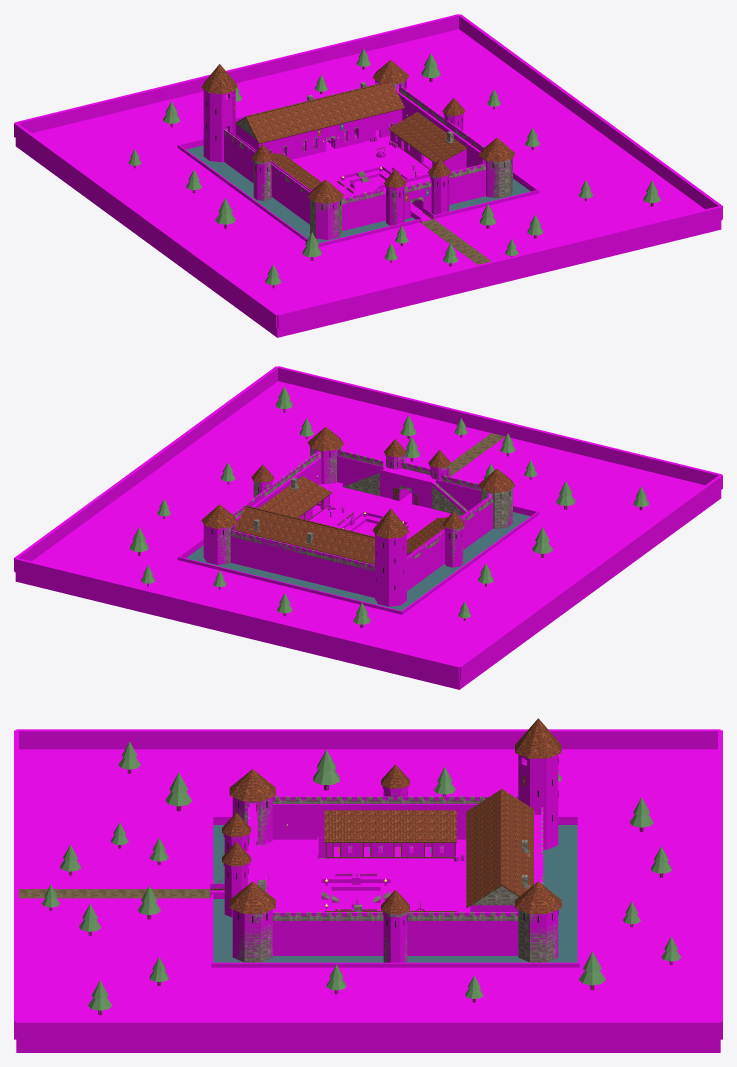
File: ClubhouseCastle.glb
3 renders of one model, top to bottom at view 1: azimuth 30°, elevation 25°; view 2: azimuth 150°, elevation 25°; view 3: azimuth 270°, elevation 25°, orthographic. The views are drawn at different scales.
Visible parts, largest first — view 1: COL_Terrain, COL_Curtain, NorthRange, COL_Courtyard, Terrain, COL_NorthRange, COL_Gatehouse, EastRange, COL_TallTower, CornerTower.001, CornerTower, COL_EastRange (+4 smaller); view 2: COL_Terrain, COL_Curtain, NorthRange, Terrain, COL_Courtyard, COL_TallTower, COL_Gatehouse, EastRange, CornerTower, Curtain, CornerTower.001, CornerTower.002 (+2 smaller); view 3: COL_Terrain, COL_Curtain, COL_Courtyard, Terrain, NorthRange, WestRange, COL_TallTower, CornerTower.002, CornerTower.001, COL_Gatehouse, COL_WestRange, CornerTower (+5 smaller).
Part boxes in pixels (bbox=[...]): COL_Terrain: bbox=[14, 14, 722, 337]; COL_Curtain: bbox=[224, 80, 512, 239]; NorthRange: bbox=[235, 81, 404, 143]; COL_Courtyard: bbox=[292, 125, 431, 207]; Terrain: bbox=[186, 145, 530, 264]; COL_NorthRange: bbox=[235, 109, 402, 159]; COL_Gatehouse: bbox=[384, 174, 449, 225]; EastRange: bbox=[388, 112, 466, 169]; COL_TallTower: bbox=[203, 90, 235, 162]; CornerTower.001: bbox=[478, 137, 515, 198]; CornerTower: bbox=[307, 179, 344, 238]; COL_EastRange: bbox=[391, 131, 466, 171]; COL_Terrain: bbox=[14, 366, 722, 689]; COL_Curtain: bbox=[203, 448, 512, 597]; NorthRange: bbox=[234, 505, 374, 564]; Terrain: bbox=[186, 433, 530, 610]; COL_Courtyard: bbox=[309, 482, 461, 539]; COL_TallTower: bbox=[375, 534, 406, 606]; COL_Gatehouse: bbox=[384, 454, 449, 507]; EastRange: bbox=[259, 476, 332, 520]; CornerTower: bbox=[479, 468, 515, 528]; Curtain: bbox=[343, 473, 467, 515]; CornerTower.001: bbox=[307, 427, 344, 483]; CornerTower.002: bbox=[201, 504, 237, 564]; COL_Terrain: bbox=[14, 729, 722, 1052]; COL_Curtain: bbox=[232, 786, 558, 962]; COL_Courtyard: bbox=[265, 839, 470, 911]; Terrain: bbox=[19, 825, 577, 962]; NorthRange: bbox=[466, 788, 533, 907]; WestRange: bbox=[318, 810, 456, 858]; COL_TallTower: bbox=[518, 754, 558, 849]; CornerTower.002: bbox=[515, 881, 561, 962]; CornerTower.001: bbox=[229, 881, 275, 962]; COL_Gatehouse: bbox=[210, 834, 268, 917]; COL_WestRange: bbox=[317, 837, 454, 858]; CornerTower: bbox=[229, 769, 275, 843].
Bounding box in the file's own units: 141 × 31.8 × 144.
Materials: 20 (8 with a texture image).
